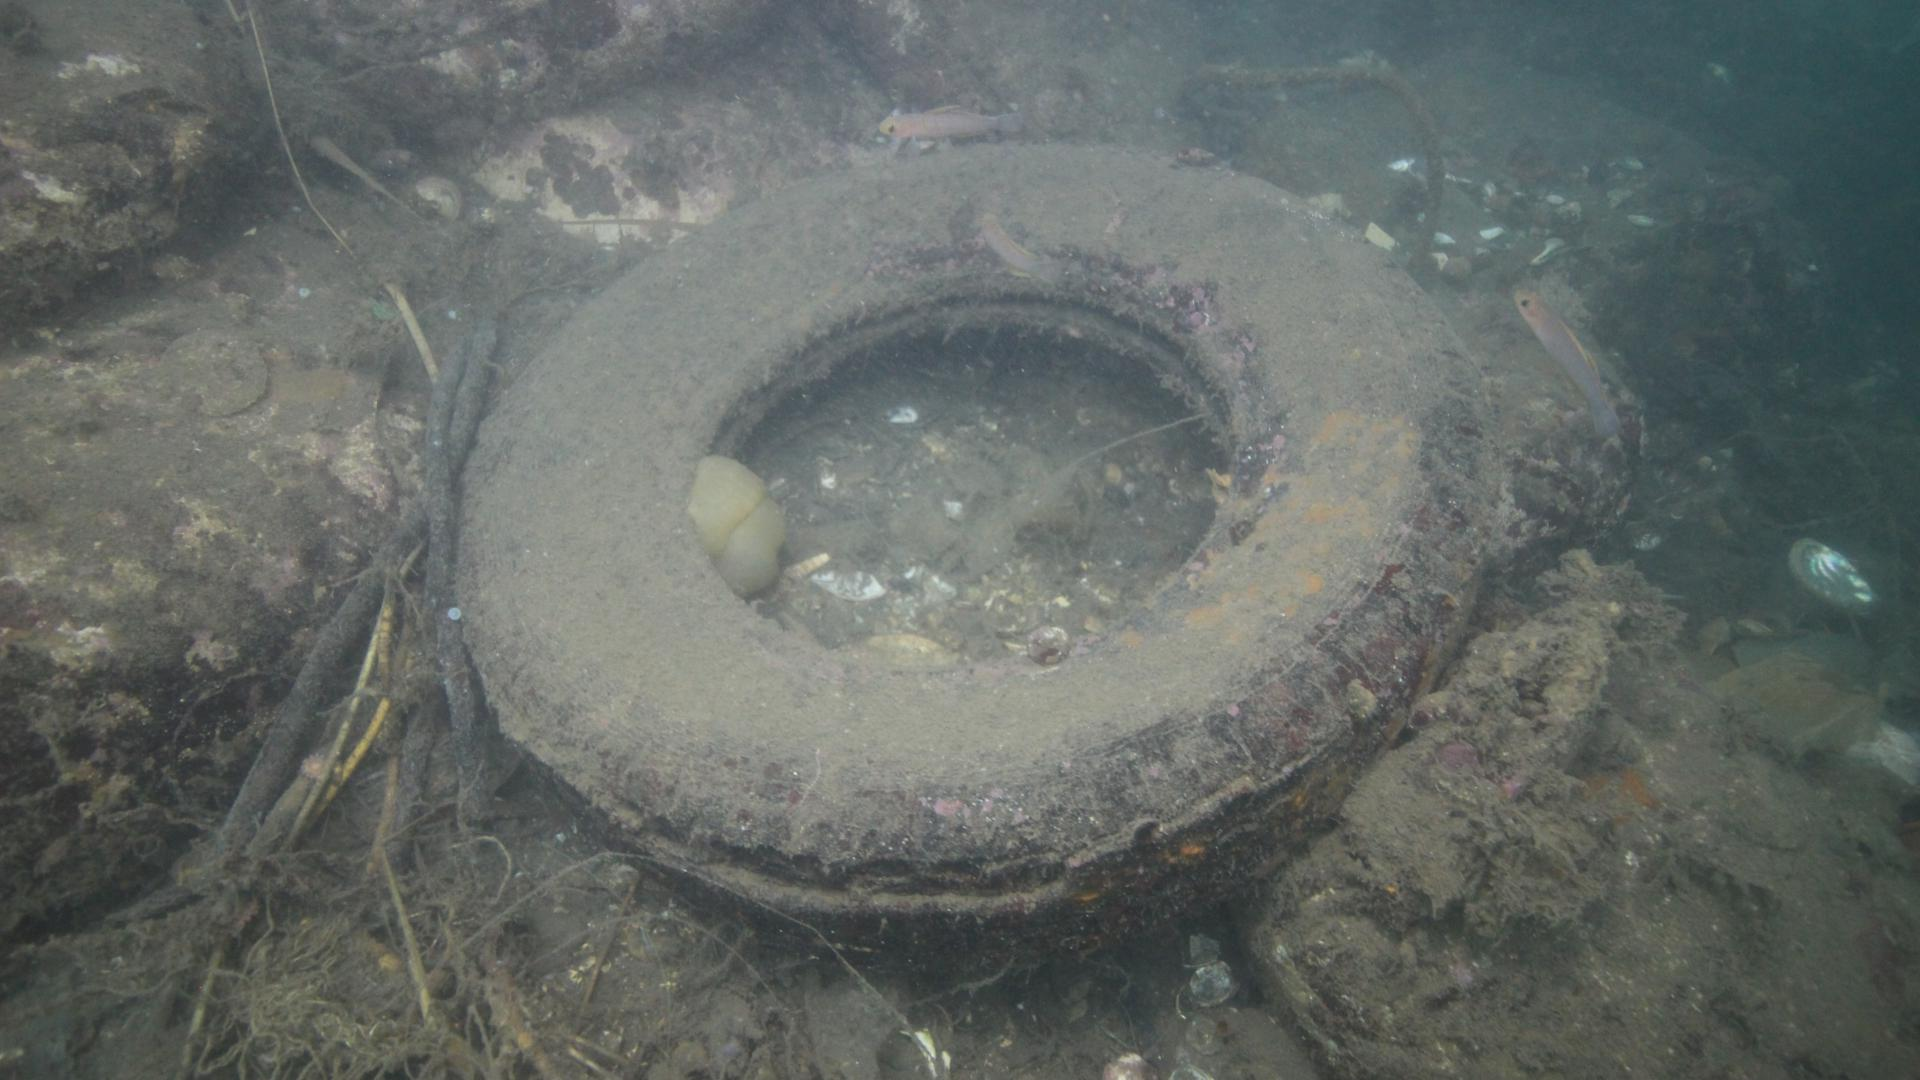tire: (454, 141, 1497, 973)
